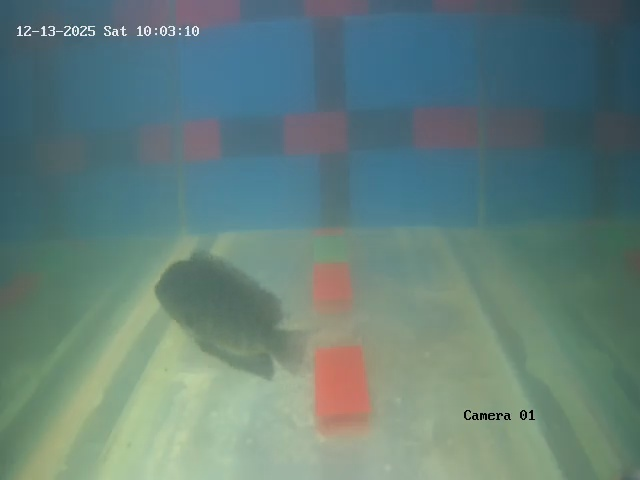fish: (155, 252, 284, 369)
